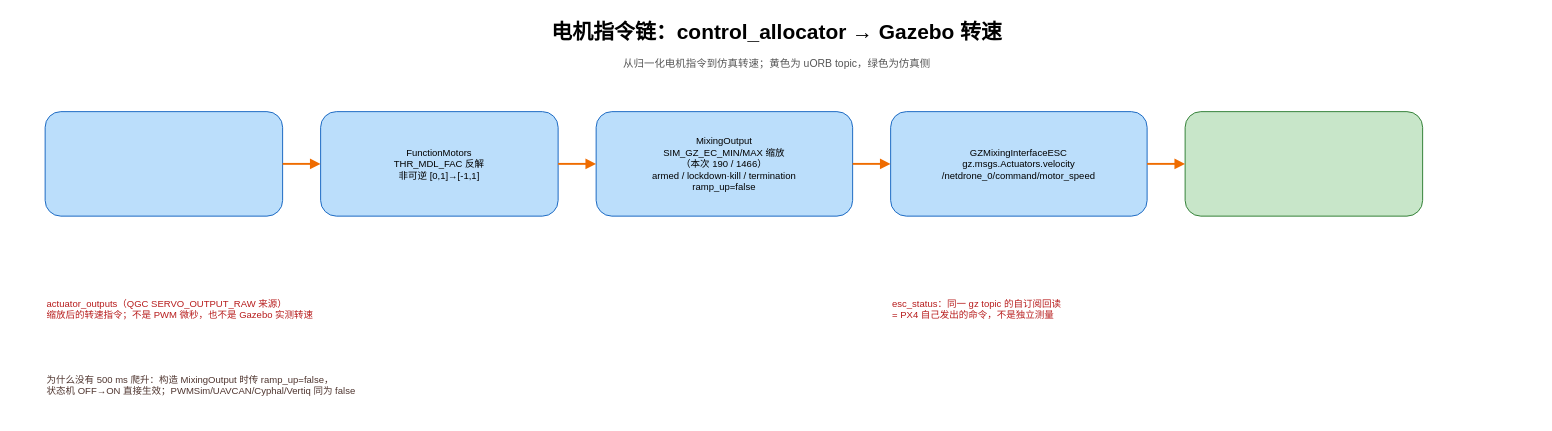
Some shapes in this 1552 by 431 pixel diagram are drawn without their labels. Each missing label, with the box of its shape:
control_allocator CA_AIRFRAME=0（Multirotor） → actuator_motors[0..3] ∈[0,1]: (44, 111, 283, 216)
Gazebo MulticopterMotorModel motorConstant / momentConstant 转速 → 推力 / 反扭矩: (1184, 111, 1423, 216)
